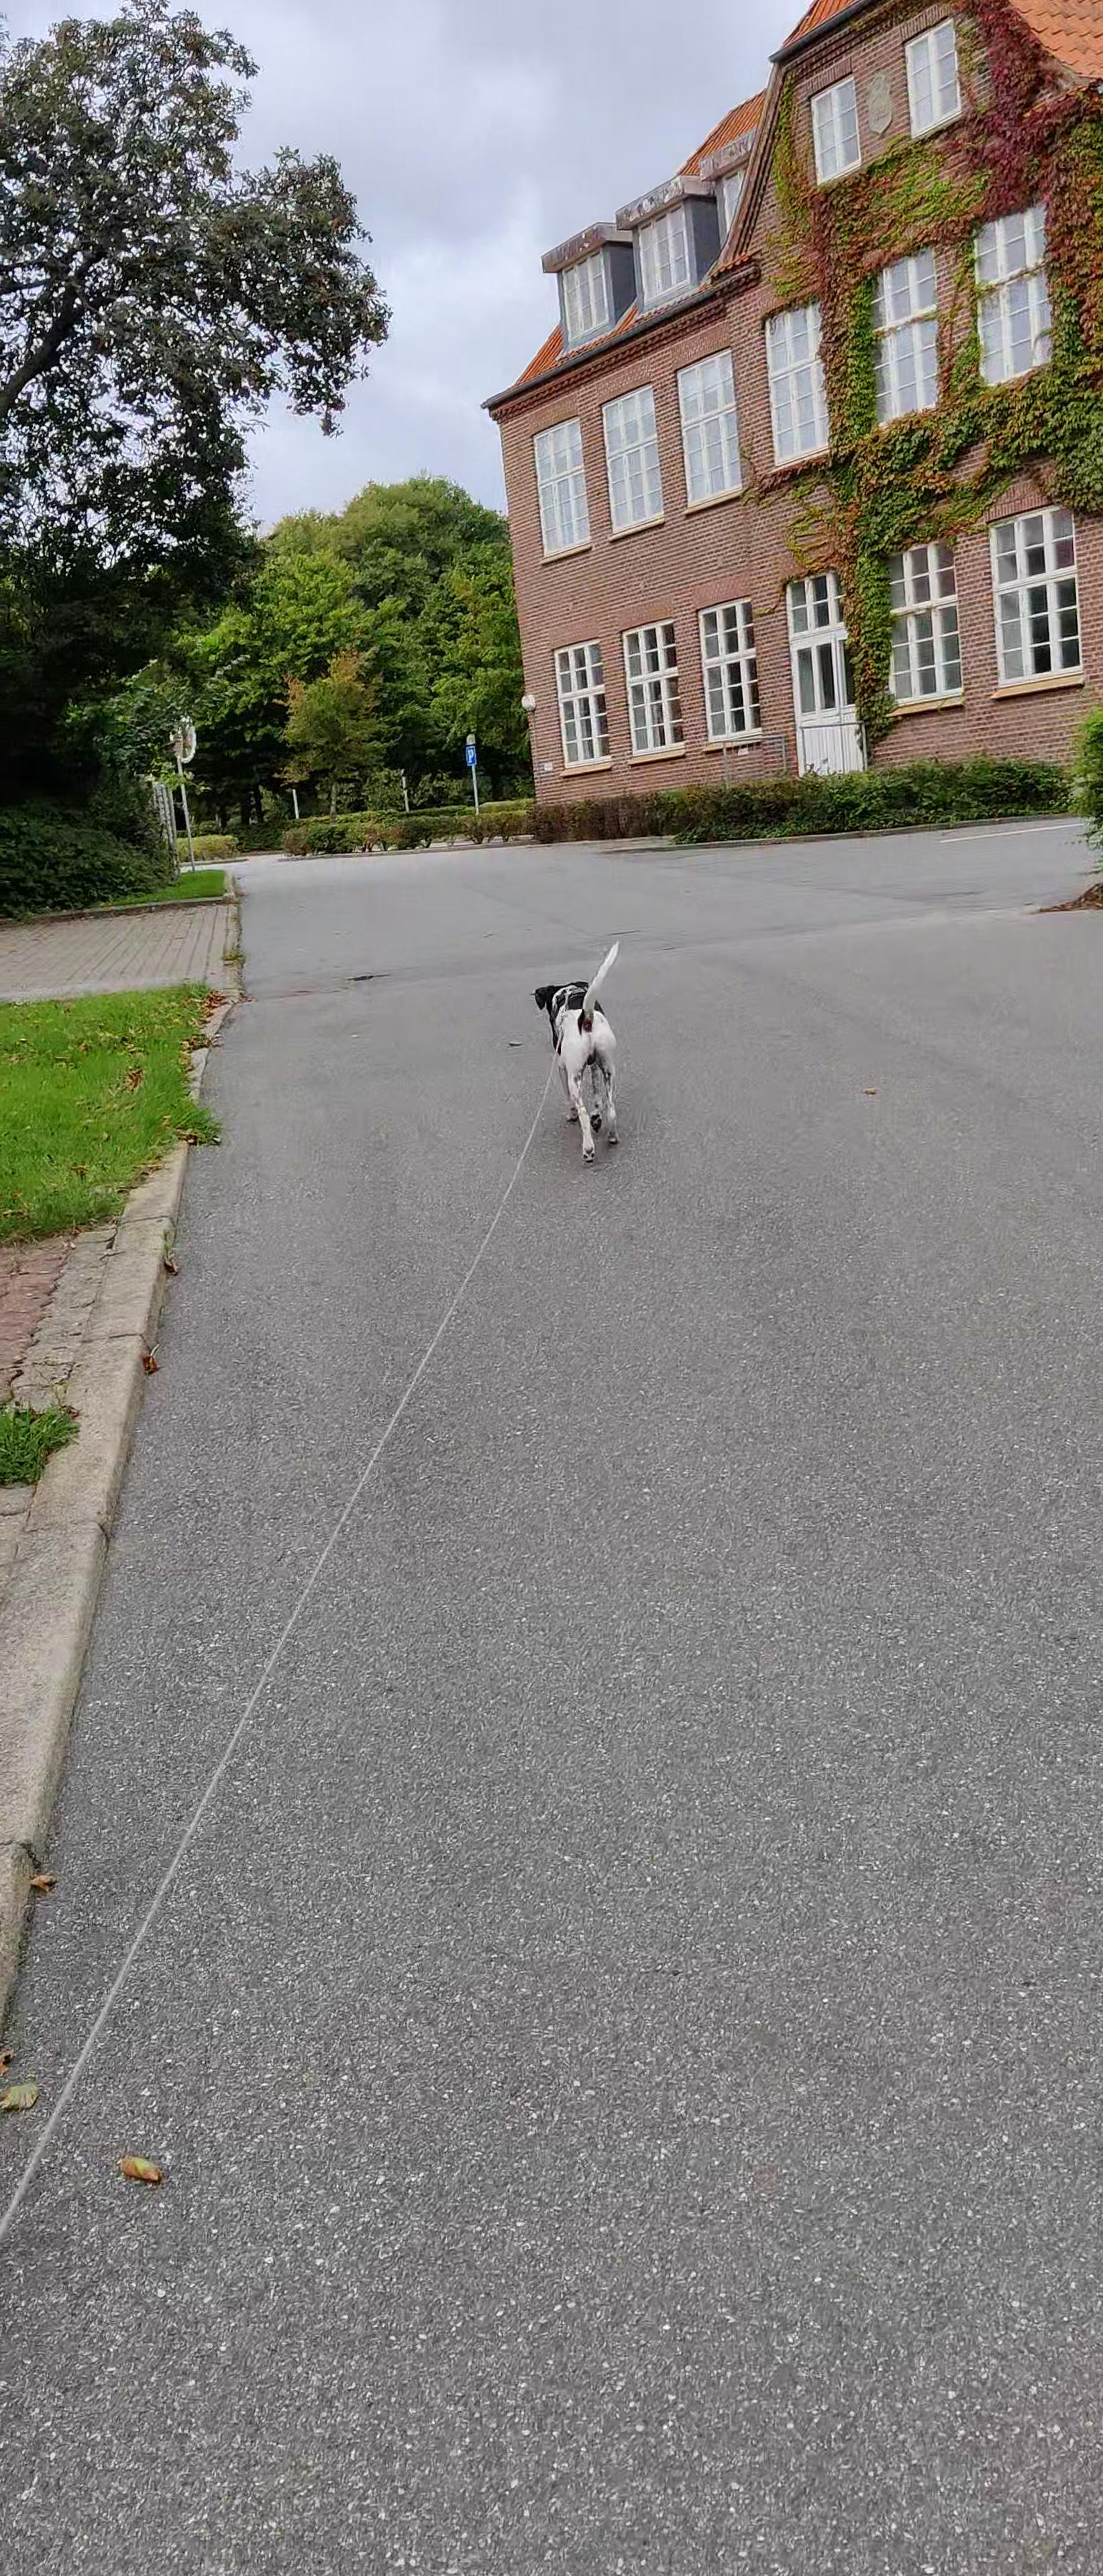Dog: (533, 936, 623, 1163)
